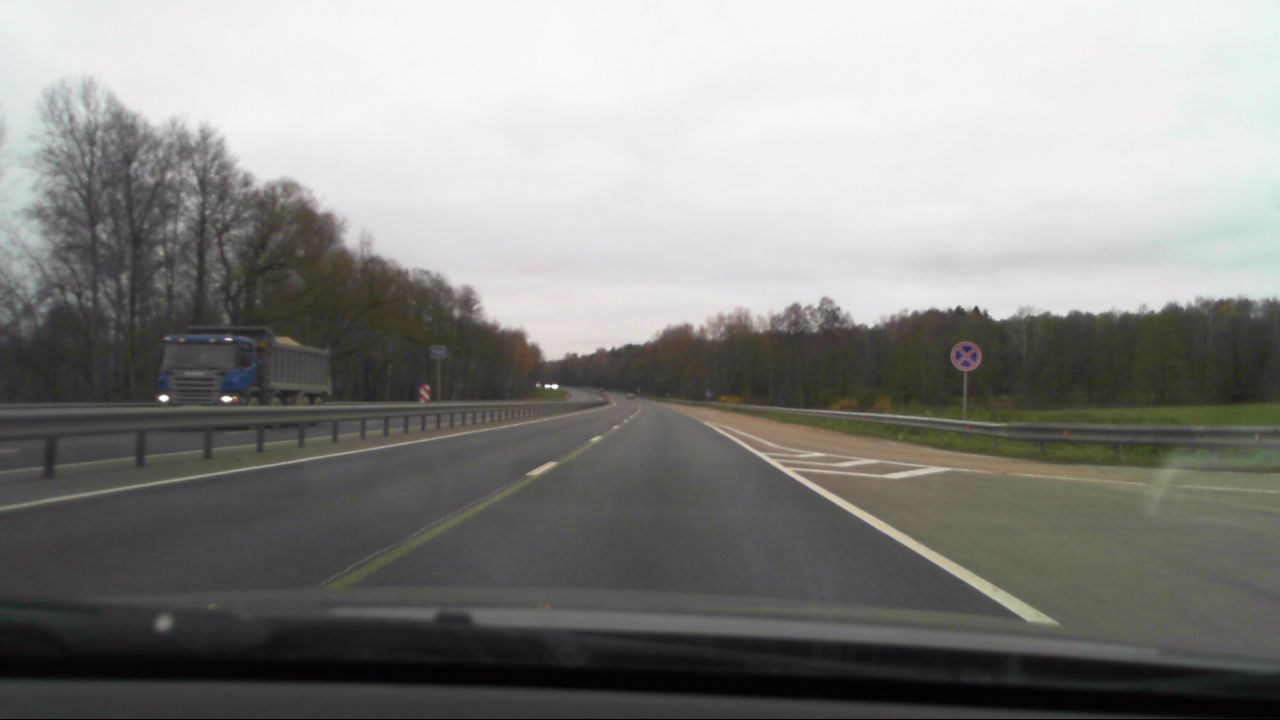No Parking: (950, 340, 982, 370)
